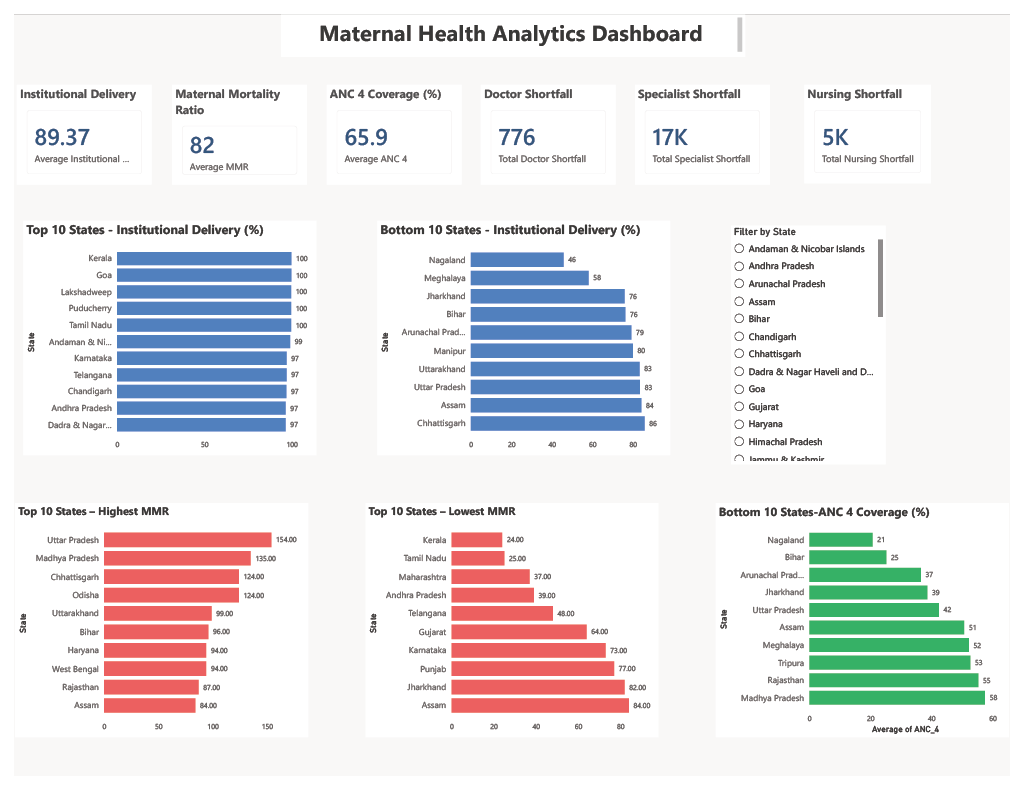

This screenshot's page, from the dashboard's own definition file:
{"tool":"powerbi","page":{"name":"Page 1","canvas":[1700,1300],"ordinal":0},"visuals":[{"type":"cardVisual","title":"ANC 4 Coverage (%)","fields":{"Data":["Maternal_Health_Master_Dataset.Average ANC 4"]},"box":[533.6,120.2,230,170],"z":1000},{"type":"cardVisual","title":"Maternal Mortality Ratio","fields":{"Data":["Maternal_Health_Master_Dataset.Average MMR"]},"box":[270.4,120.2,230,170],"z":2000},{"type":"cardVisual","title":"Doctor Shortfall","fields":{"Data":["Maternal_Health_Master_Dataset.Total Doctor Shortfall"]},"box":[796.8,120.2,230,170],"z":3000},{"type":"cardVisual","title":"Specialist Shortfall","fields":{"Data":["Maternal_Health_Master_Dataset.Total Specialist Shortfall"]},"box":[1060,120.2,230,170],"z":4000},{"type":"cardVisual","title":"Nursing Shortfall","fields":{"Data":["Maternal_Health_Master_Dataset.Total Nursing Shortfall"]},"box":[1349.2,120.2,216,168],"z":5000},{"type":"textbox","box":[456,0,792,72],"z":6000},{"type":"clusteredBarChart","title":"Top 10 States - Institutional Delivery (%)","fields":{"Category":["Maternal_Health_Master_Dataset.State"],"Y":["Maternal_Health_Master_Dataset.Average Institutional Delivery"]},"box":[16,352,500,400],"z":7000},{"type":"clusteredBarChart","title":"Bottom 10 States - Institutional Delivery (%)","fields":{"Y":["Maternal_Health_Master_Dataset.Average Institutional Delivery"],"Category":["Maternal_Health_Master_Dataset.State"]},"box":[620,352,500,400],"z":8000},{"type":"cardVisual","title":"Institutional Delivery","fields":{"Data":["Maternal_Health_Master_Dataset.Average Institutional Delivery"]},"box":[5.2,120.2,230,170],"z":9000},{"type":"clusteredBarChart","title":"Top 10 States – Highest MMR","fields":{"Category":["Maternal_Health_Master_Dataset.State"],"Y":["Avg(Maternal_Health_Master_Dataset.MMR)"]},"box":[2.4,833.9,500,400],"z":10000},{"type":"clusteredBarChart","title":"Top 10 States – Lowest MMR","fields":{"Category":["Maternal_Health_Master_Dataset.State"],"Y":["Avg(Maternal_Health_Master_Dataset.MMR)"]},"box":[600.4,833.9,500,400],"z":11000},{"type":"clusteredBarChart","title":"Bottom 10 States-ANC 4 Coverage (%)","fields":{"Y":["Avg(Maternal_Health_Master_Dataset.ANC_4)"],"Category":["Maternal_Health_Master_Dataset.State"]},"box":[1198.4,833.9,500,400],"z":13000},{"type":"listSlicer","title":"Filter by State","fields":{"Values":["Maternal_Health_Master_Dataset.State"]},"box":[1224,360,264,408],"z":14000}]}

Visuals, with their boxes in screenshot pixels (x1, y1, x2, y2), scaled from the page's 1700x1300 canvas onto the 1024x790 screenshot:
"ANC 4 Coverage (%)" cardVisual: pyautogui.locateOnScreen(321, 73, 460, 176)
"Maternal Mortality Ratio" cardVisual: pyautogui.locateOnScreen(163, 73, 301, 176)
"Doctor Shortfall" cardVisual: pyautogui.locateOnScreen(480, 73, 618, 176)
"Specialist Shortfall" cardVisual: pyautogui.locateOnScreen(638, 73, 777, 176)
"Nursing Shortfall" cardVisual: pyautogui.locateOnScreen(813, 73, 943, 175)
textbox: pyautogui.locateOnScreen(275, 0, 752, 44)
"Top 10 States - Institutional Delivery (%)" clusteredBarChart: pyautogui.locateOnScreen(10, 214, 311, 457)
"Bottom 10 States - Institutional Delivery (%)" clusteredBarChart: pyautogui.locateOnScreen(373, 214, 675, 457)
"Institutional Delivery" cardVisual: pyautogui.locateOnScreen(3, 73, 142, 176)
"Top 10 States – Highest MMR" clusteredBarChart: pyautogui.locateOnScreen(1, 507, 303, 750)
"Top 10 States – Lowest MMR" clusteredBarChart: pyautogui.locateOnScreen(362, 507, 663, 750)
"Bottom 10 States-ANC 4 Coverage (%)" clusteredBarChart: pyautogui.locateOnScreen(722, 507, 1023, 750)
"Filter by State" listSlicer: pyautogui.locateOnScreen(737, 219, 896, 467)
